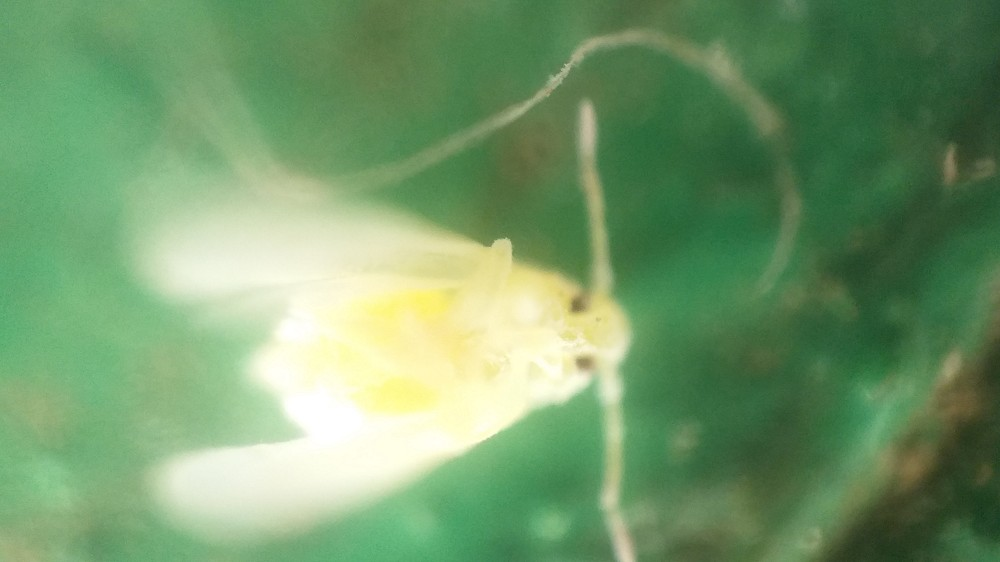Mosca Blanca: (123, 104, 658, 562)
